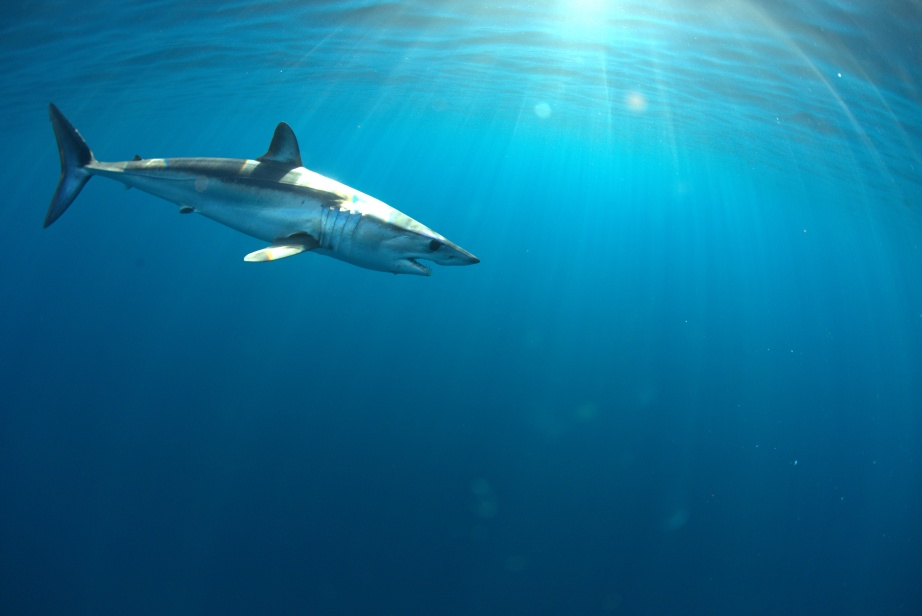Mako: (30, 88, 494, 306)
